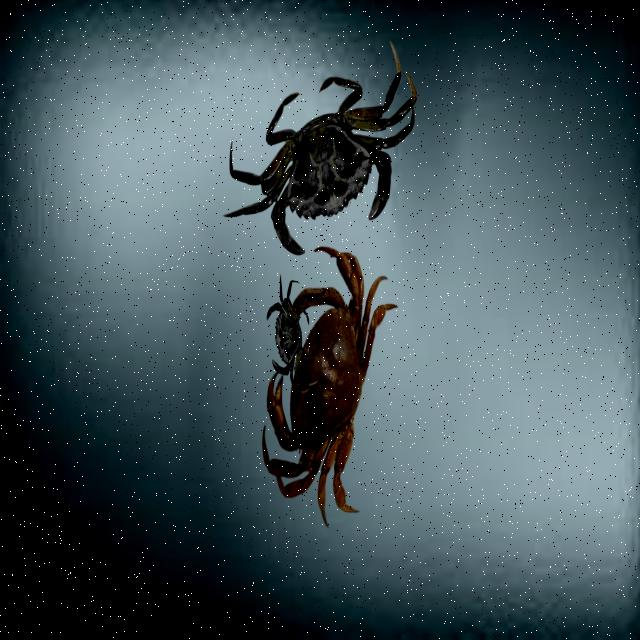European_Green_Crab: (205, 33, 440, 293), (259, 267, 320, 403)
